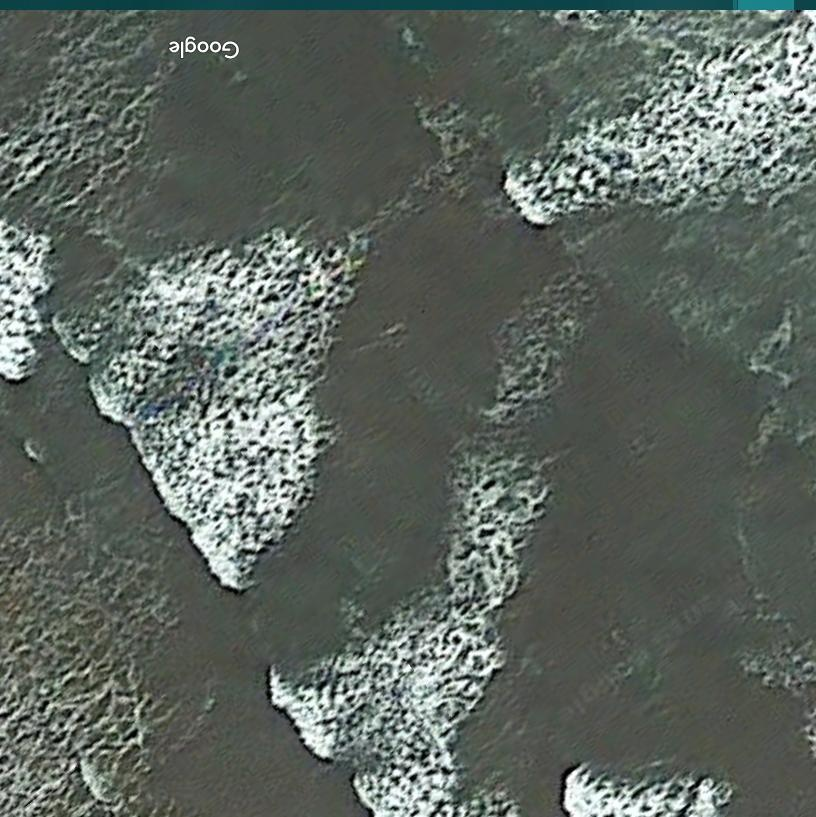rip_current: (216, 221, 526, 719)
